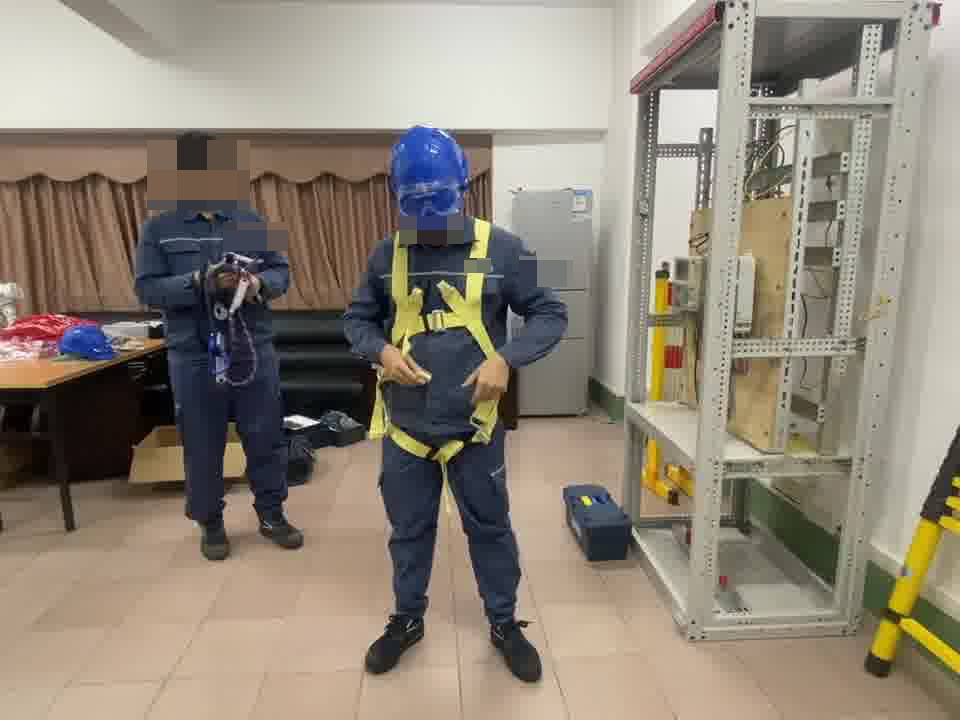downsuit: (376, 359, 530, 625), (169, 358, 293, 523)
halt: (388, 126, 472, 232)
hand: (461, 355, 511, 402), (377, 346, 432, 388)
noear: (170, 165, 198, 200)
person: (347, 125, 569, 676), (135, 133, 307, 555)
safebelt: (373, 226, 503, 461)
unhalt: (169, 132, 233, 204)
upsuit: (350, 212, 564, 403), (137, 201, 289, 334)
